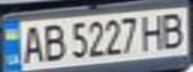2: (84, 17, 106, 59), (103, 16, 124, 56)
5: (66, 19, 90, 61)
7: (118, 14, 142, 54)
A: (18, 22, 45, 65)
B: (157, 9, 190, 51), (39, 21, 69, 63)
H: (139, 11, 169, 52)
